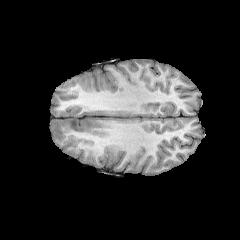glioma: (52, 120, 108, 141)
